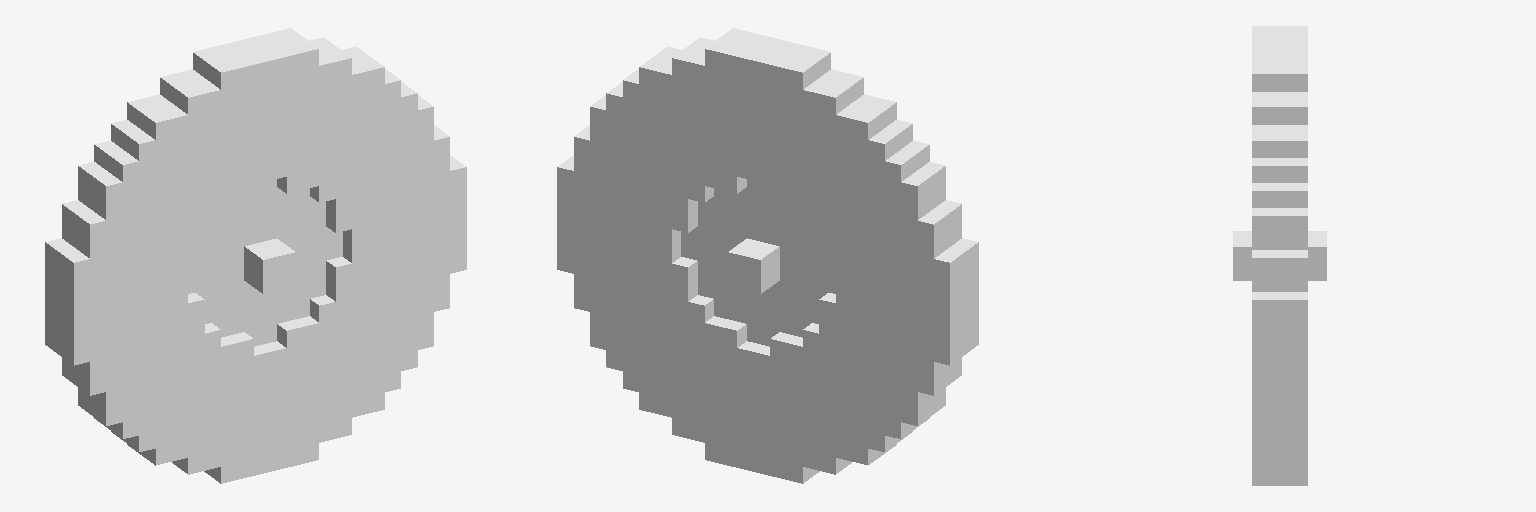
File: WheelyBase-3.obj
The picture shows the model from 3 angles: view 1: azimuth 30°, elevation 25°; view 2: azimuth 150°, elevation 25°; view 3: azimuth 270°, elevation 25°; orthographic projection.
Parts seen in each view (by area): view 1: object 1; view 2: object 1; view 3: object 1.
Part boxes in pixels (x1,y1,x2,y2): object 1: (45,28,466,483); object 1: (557,28,978,483); object 1: (1233,26,1326,485).
Size of the model in its own units: 2.4 by 2.4 by 0.5.